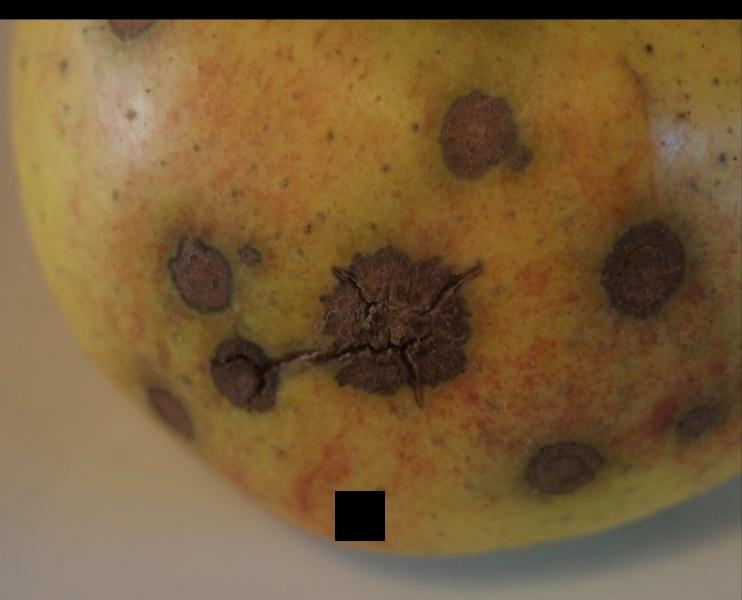rotten apple: (0, 20, 741, 557)
